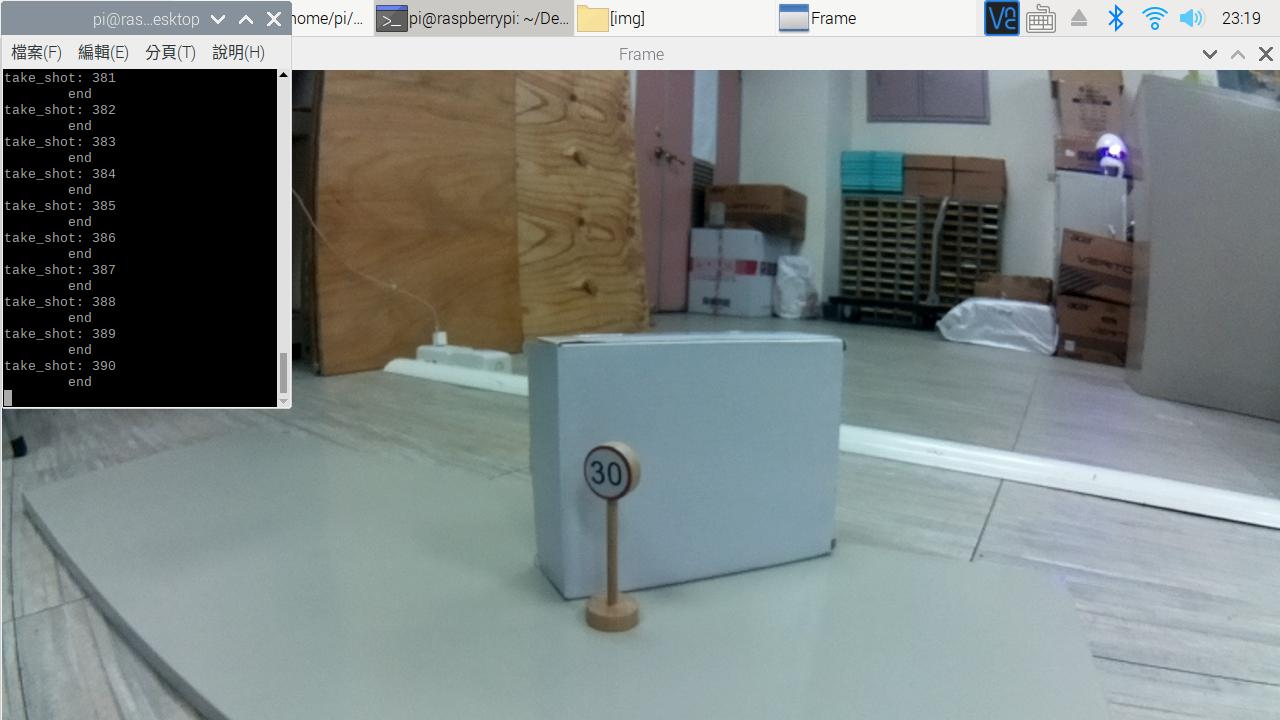Speed30: (576, 433, 646, 512)
